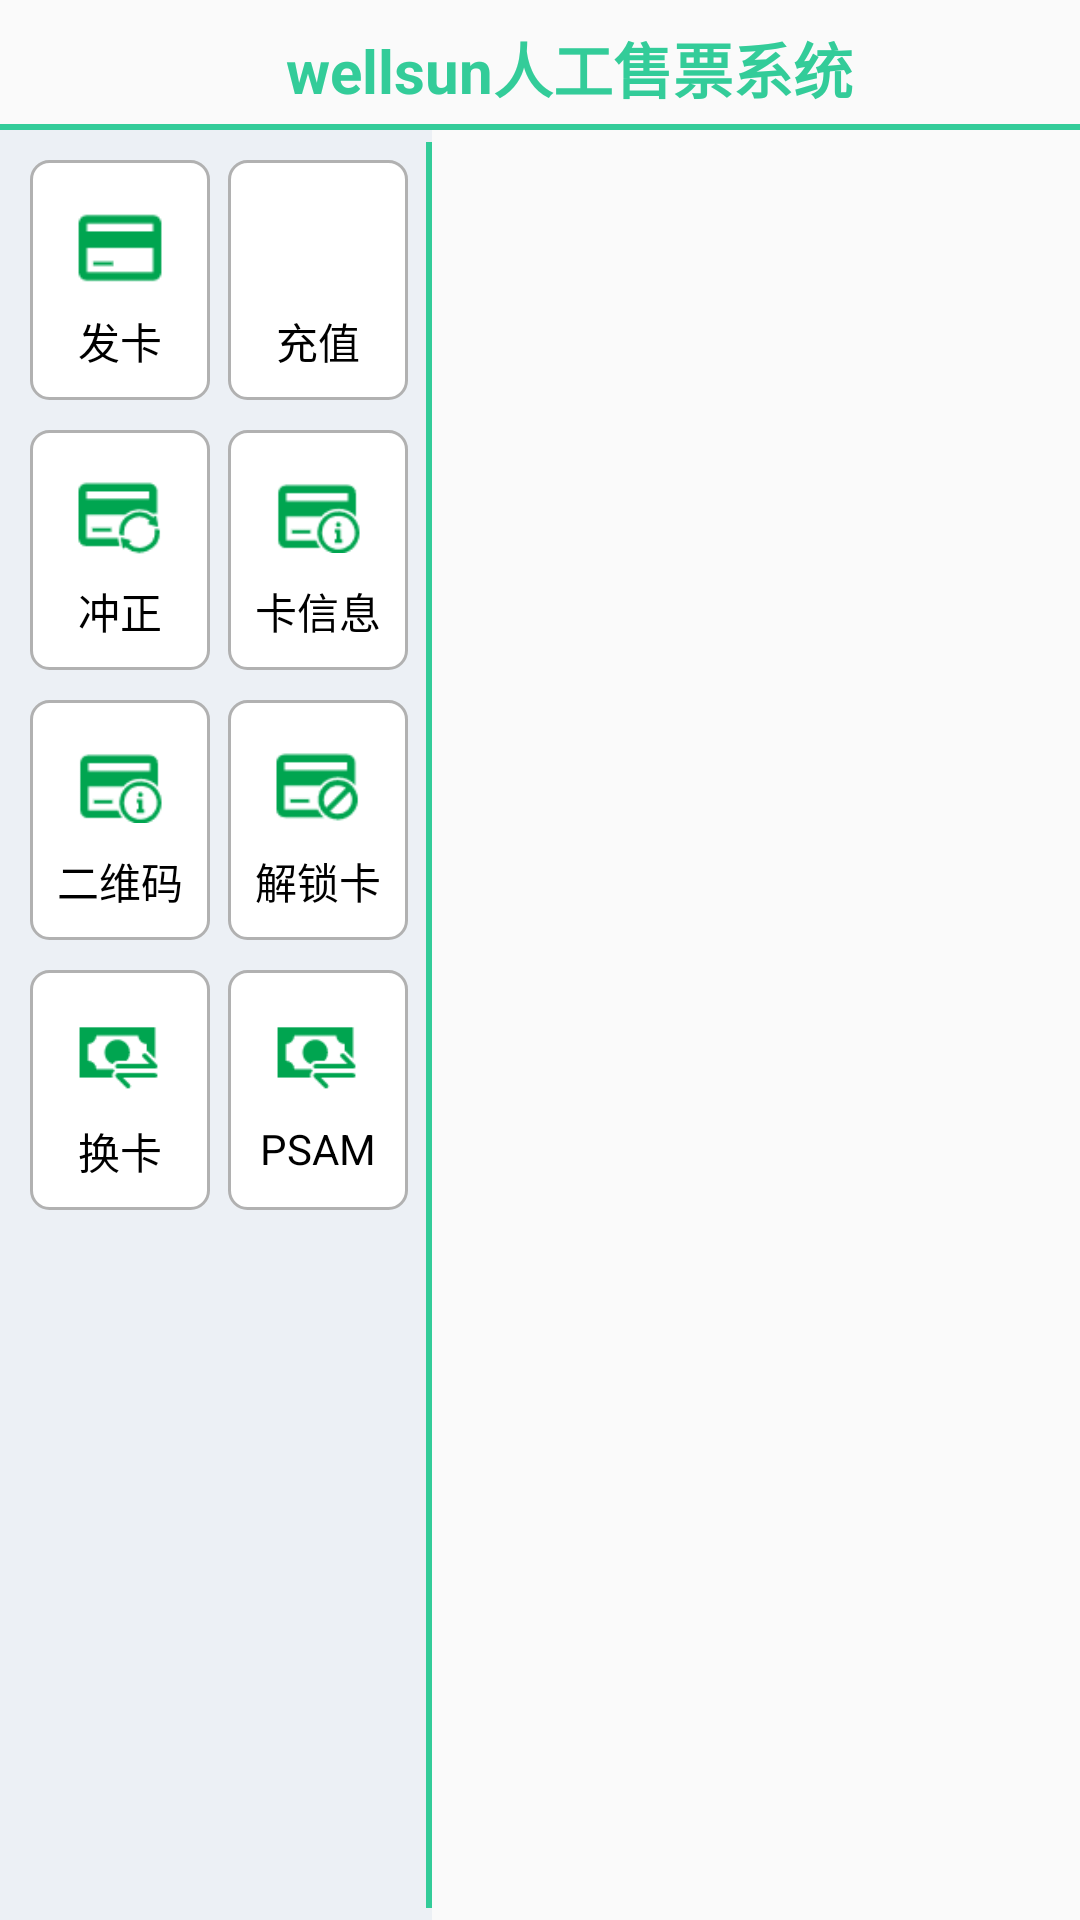

Named icons in this screenshot (1080px×1920px) and their centers, point (x, y):
card lock: point (317, 787)
